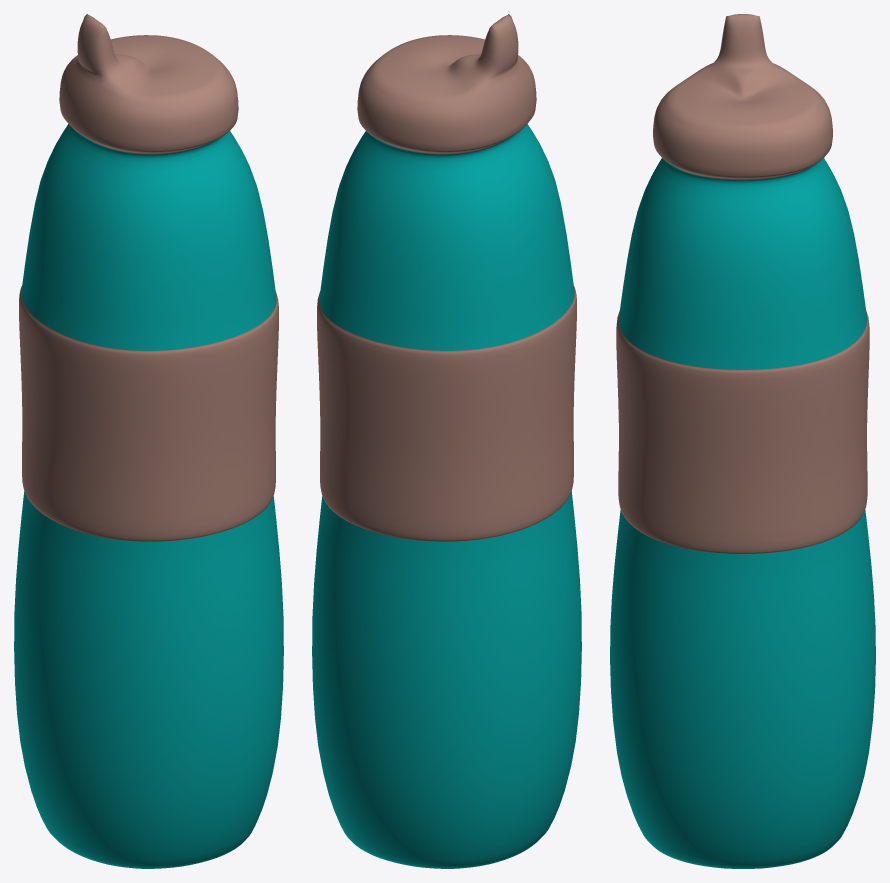
The model's file is bottle_high.fbx.
3 views of the same model, side by side, from view 1: azimuth 30°, elevation 25°; view 2: azimuth 150°, elevation 25°; view 3: azimuth 270°, elevation 25° (orthographic). The views are drawn at different scales.
Visible parts, largest first — view 1: bottle_high; view 2: bottle_high; view 3: bottle_high.
Part boxes in pixels (bbox=[...]): bottle_high: bbox=[14, 14, 283, 868]; bottle_high: bbox=[312, 14, 581, 868]; bottle_high: bbox=[610, 14, 875, 868].
Bounding box in the file's own units: 2.6 × 8.85 × 2.69.
